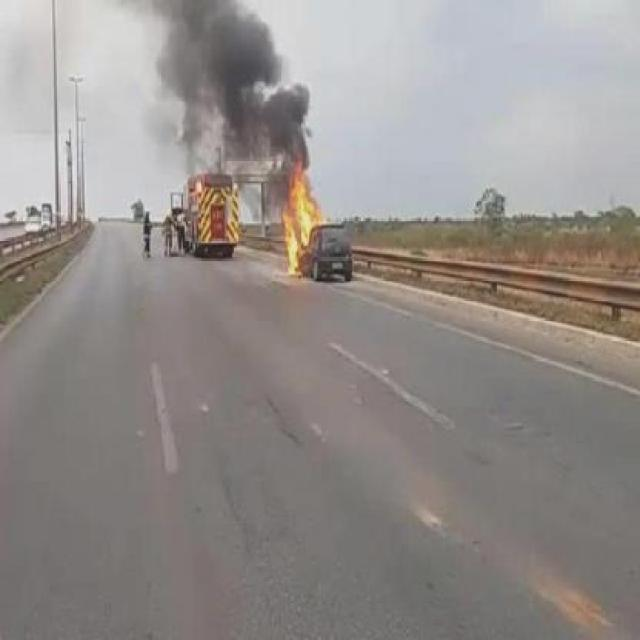Fire: (280, 169, 325, 282)
